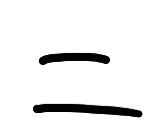eqv: (34, 54, 143, 119)
